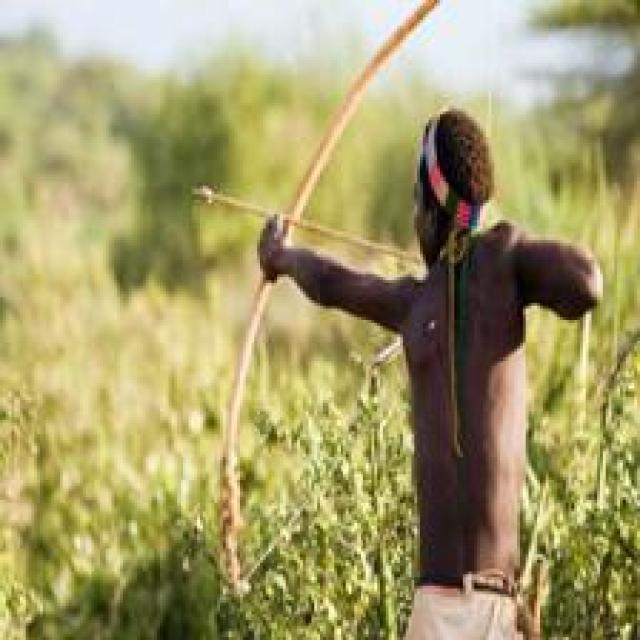X-Bow: (158, 0, 398, 586)
